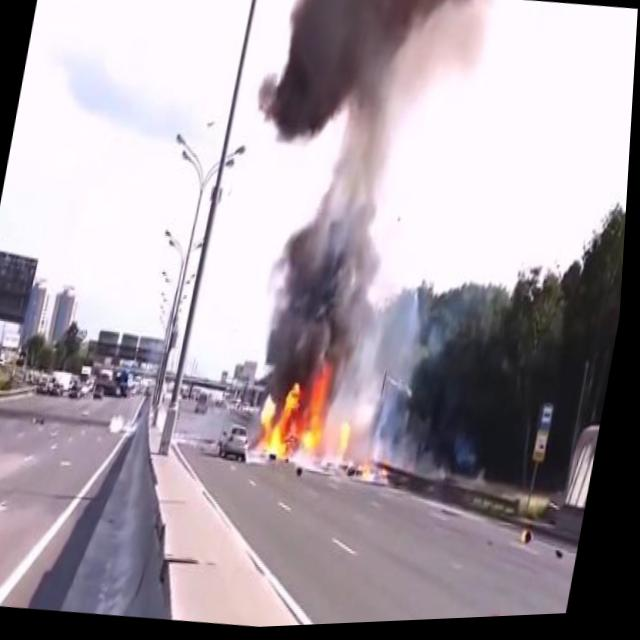fire: (247, 350, 413, 495), (526, 532, 535, 549)
